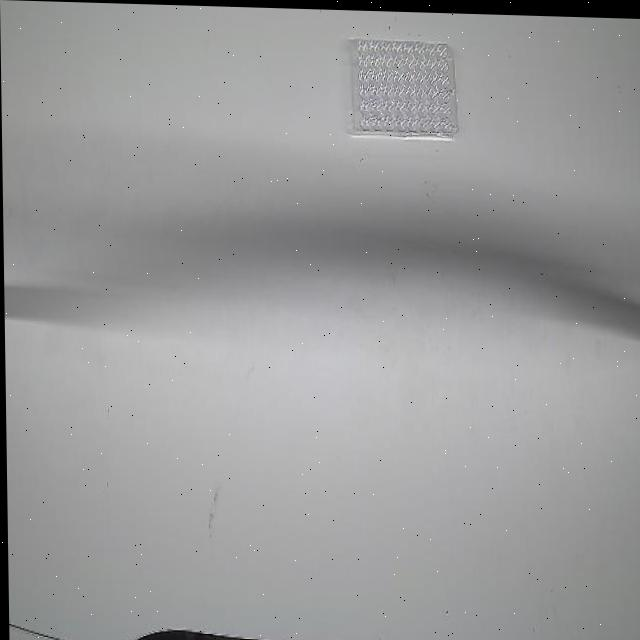Cell Culture Plate - 24: (350, 31, 462, 136)
